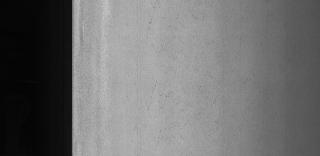silk spot: (140, 0, 214, 140)
